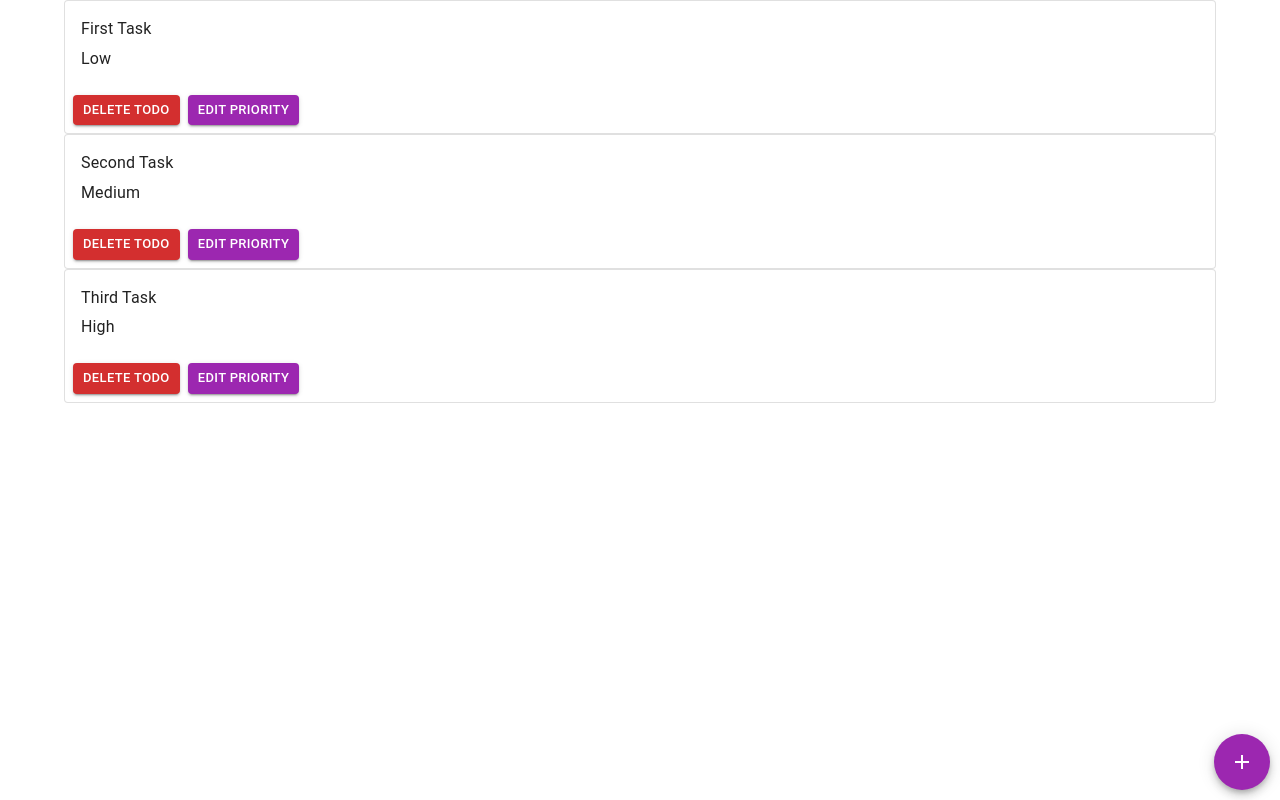
Test: Home › adds todo and shows it
Click the 7th button. click: point(1242, 762)
box: [1214,734,1270,790]
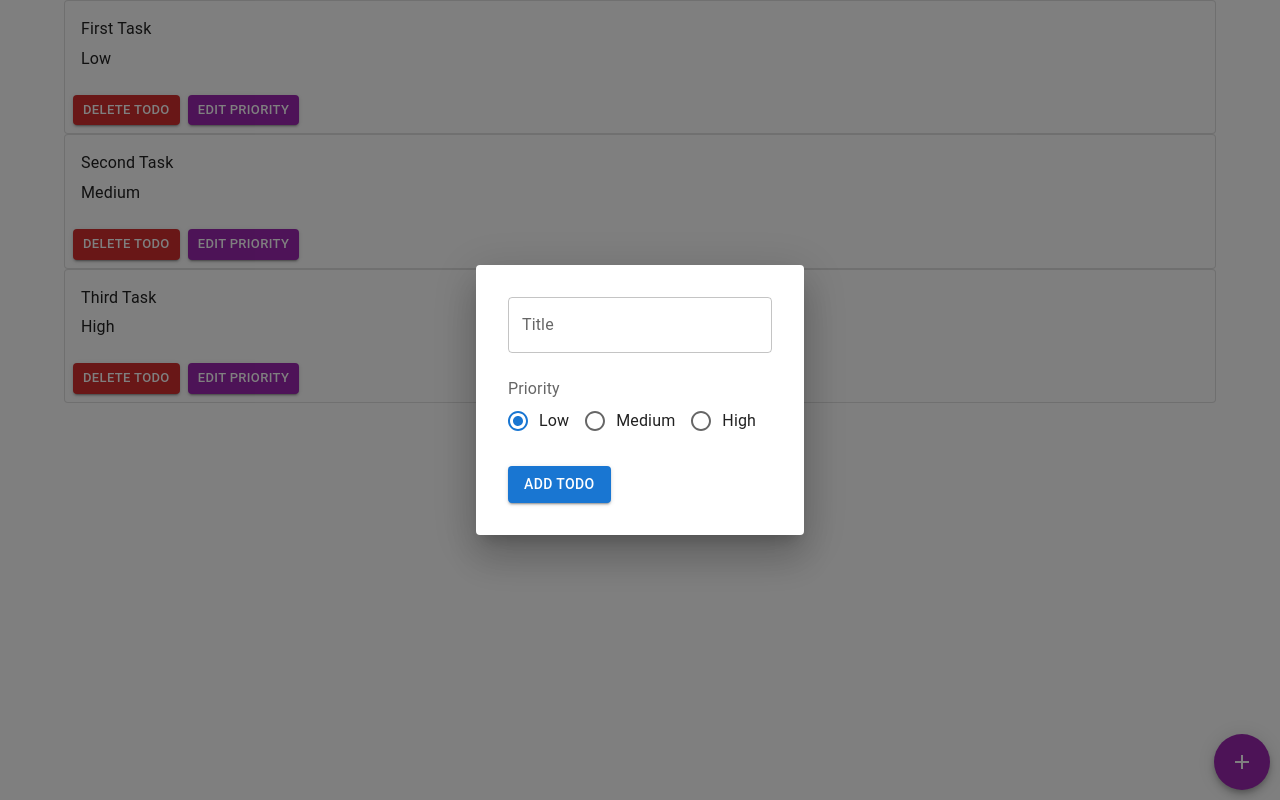
Check: the button "Add Todo" is shown, box [508,466,611,503]
Type "Fourth Task" into the field. click: point(640, 325)
box: [508,297,772,353]
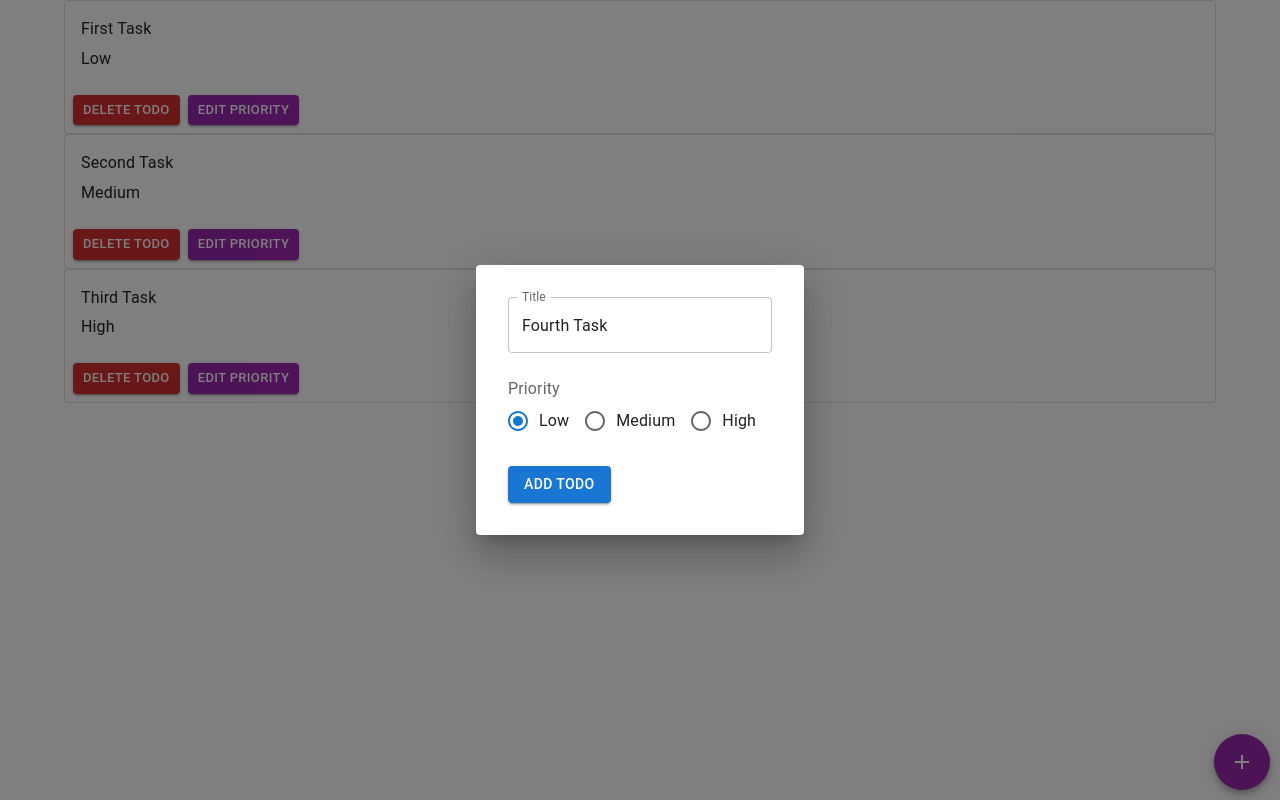
Click the button "Add Todo". click: point(559, 485)
box: [508,466,611,503]
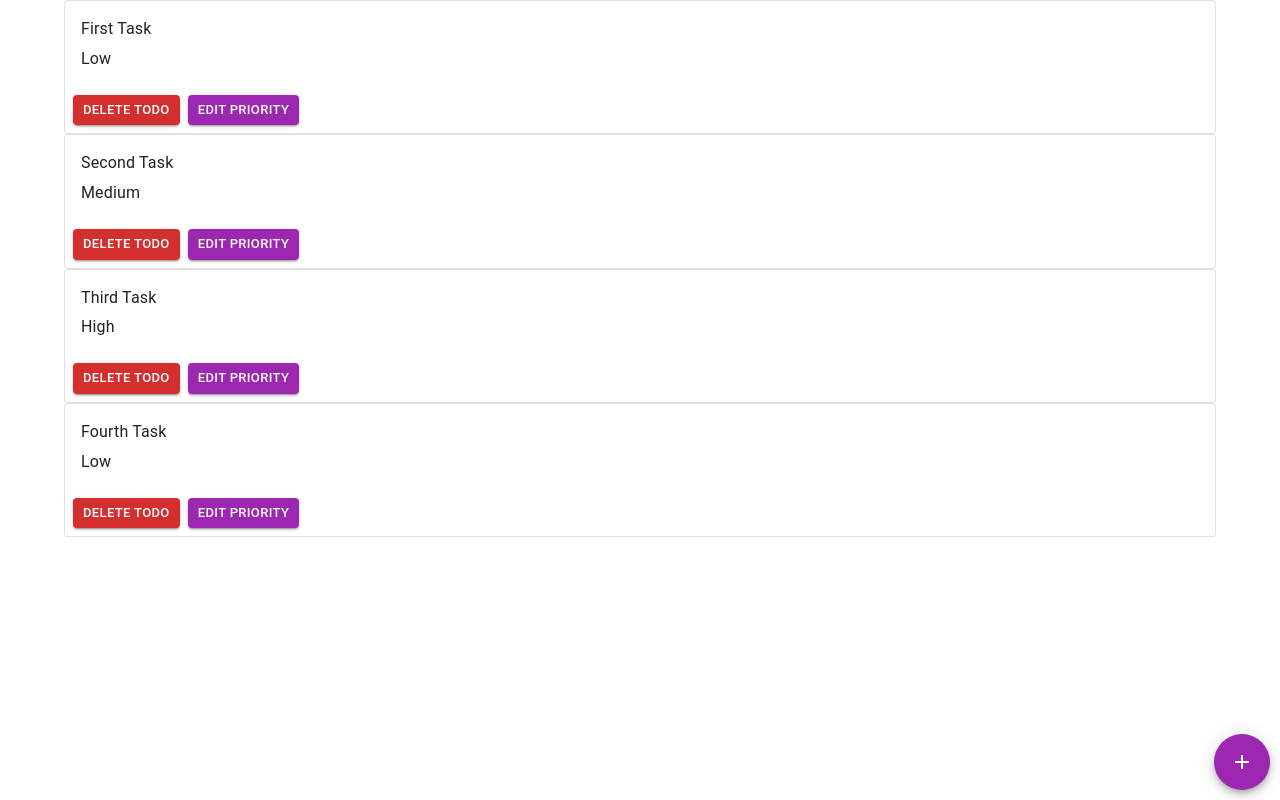
Check: the button "Add Todo" is gone
Check: the text "Fourth Task" is shown, box [81,422,166,441]
